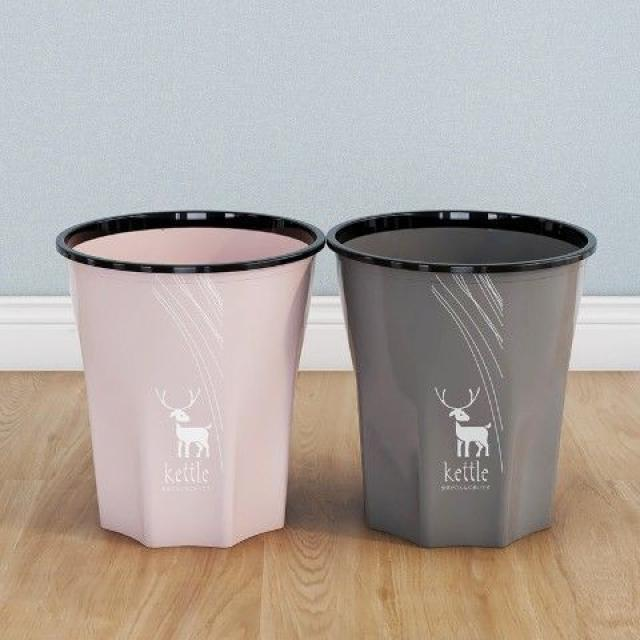dustbin: (328, 202, 603, 553), (53, 203, 326, 552)
